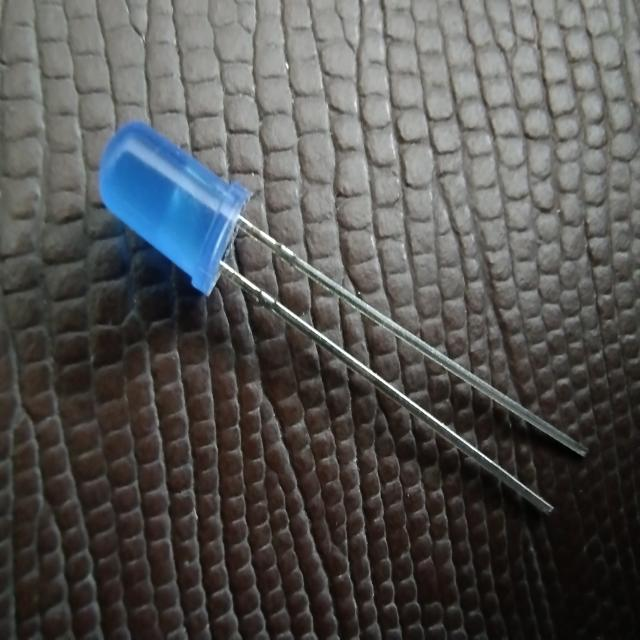blue_led: (97, 118, 589, 516), (98, 119, 252, 297)
